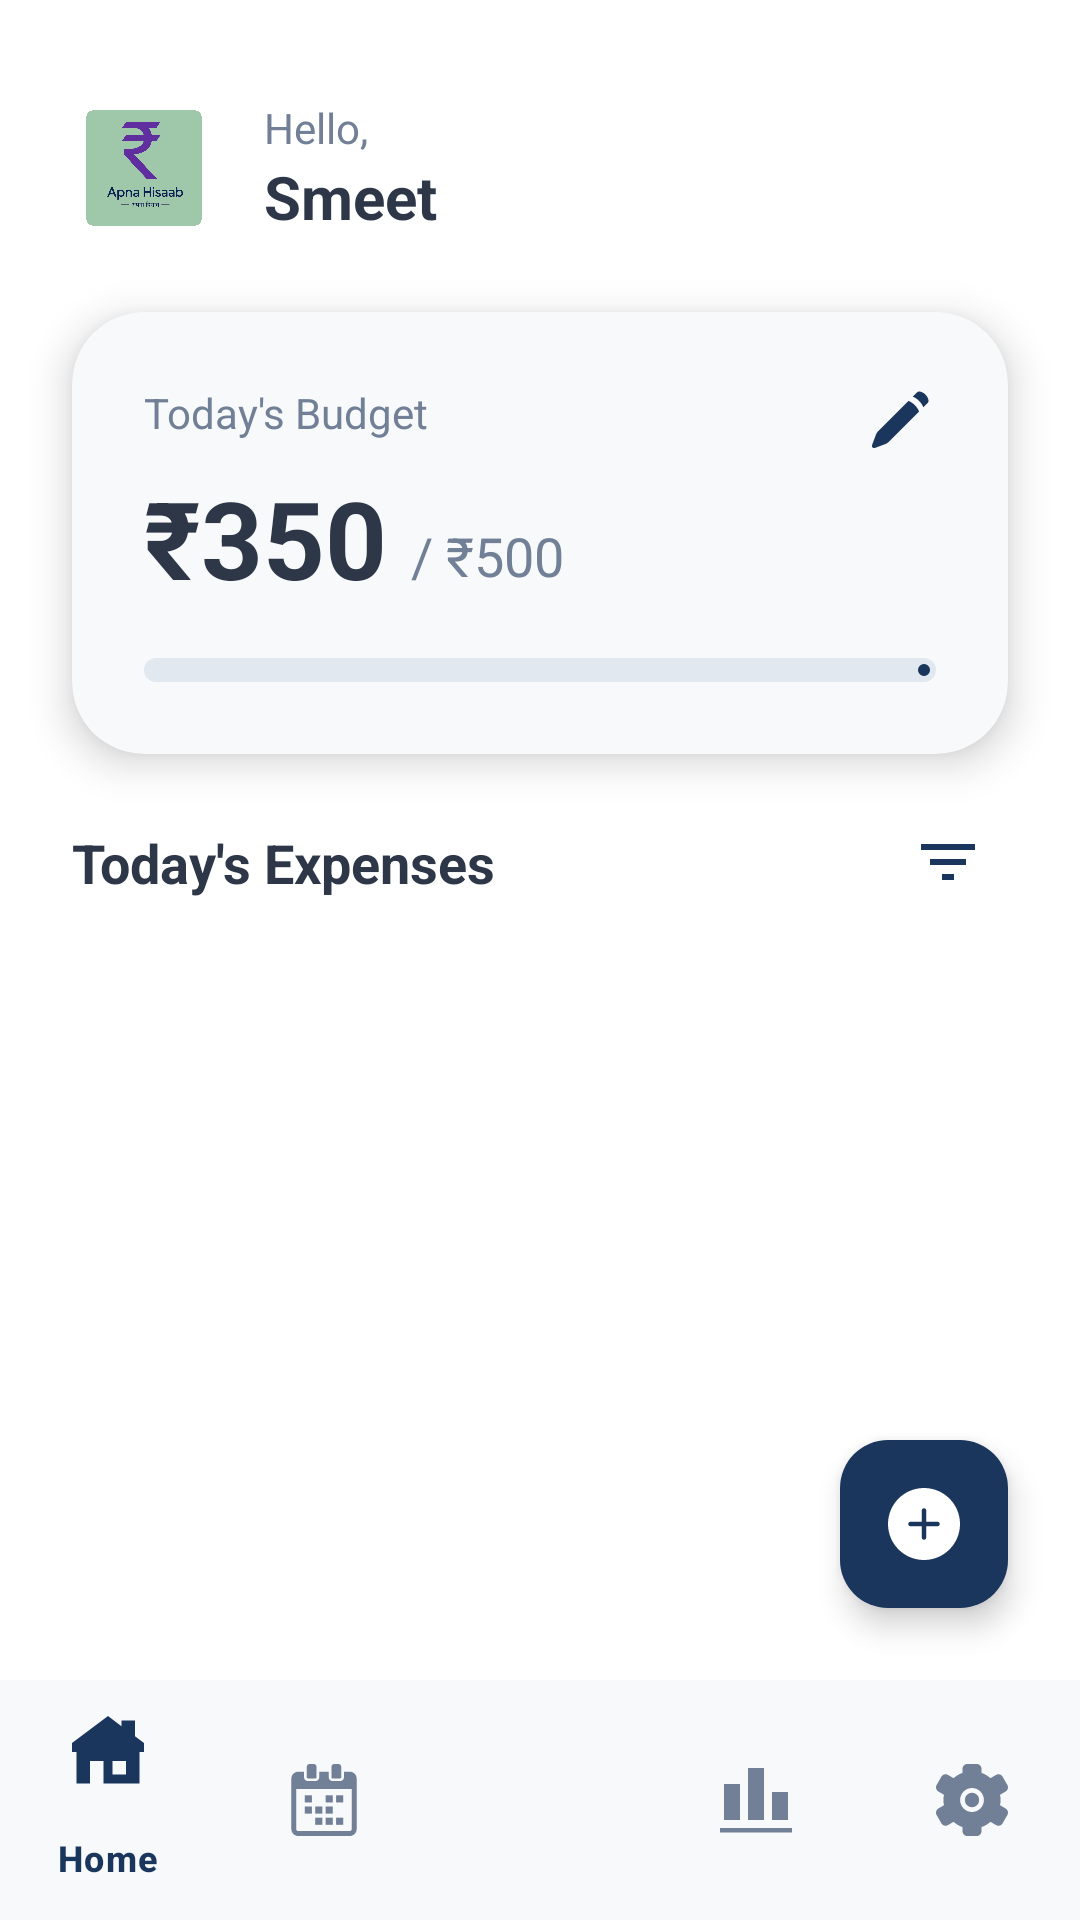

Point at icon controls on the screen. Image size 1080 × 1920, points as (x=x, y=y).
add: (x=924, y=1524)
edit: (x=900, y=419)
filter list: (x=948, y=862)
